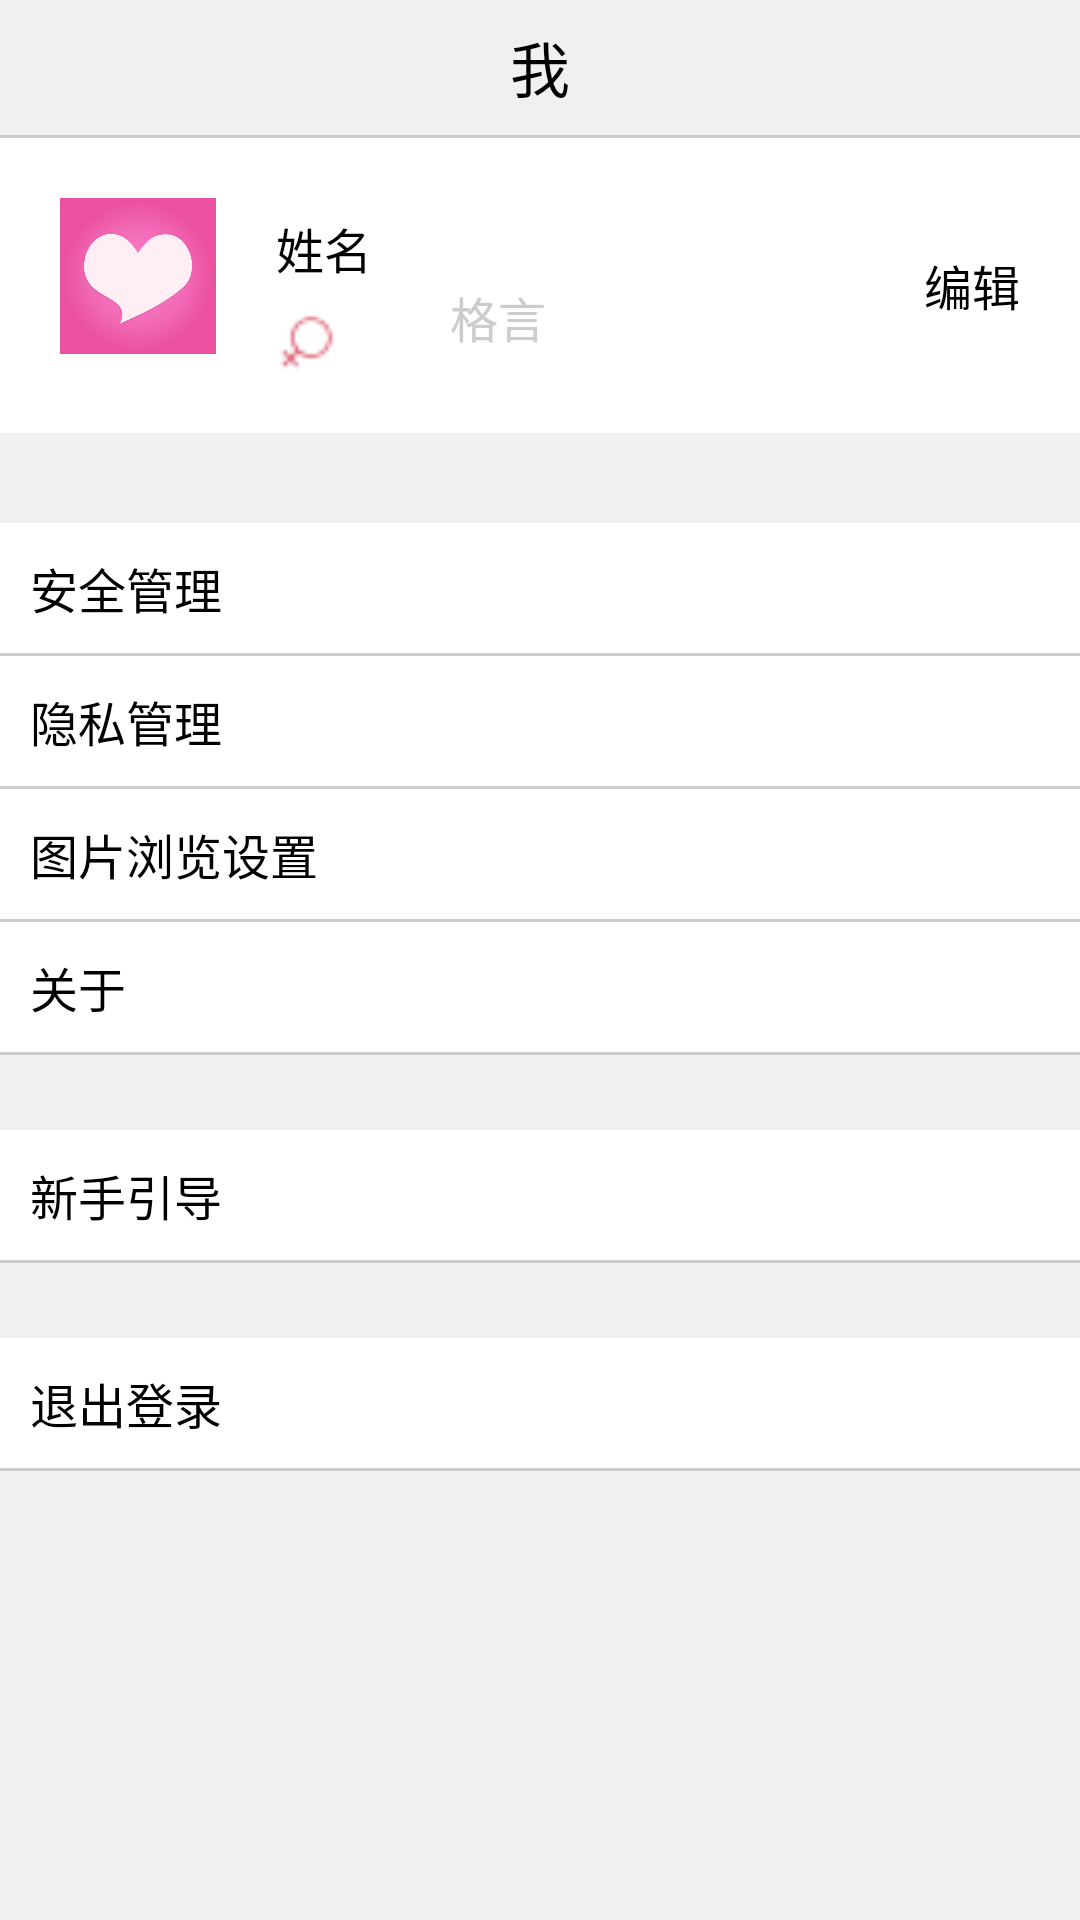

Screen size 1080x1920. Icon name, then its center in pixels as (x=x, y=y):
fall in love: (x=138, y=276)
female: (x=307, y=341)
